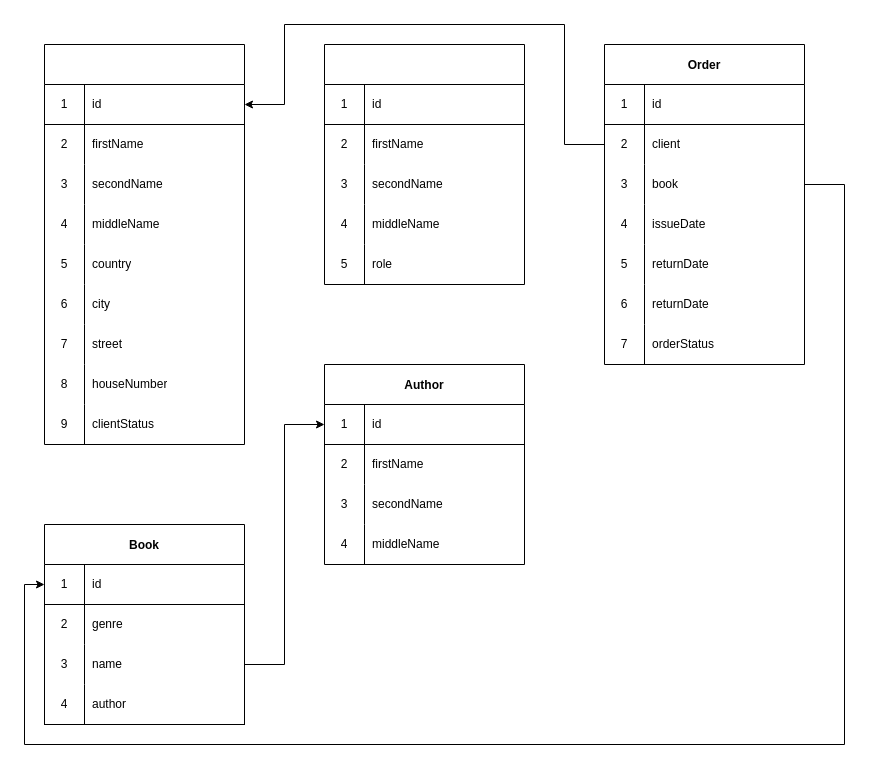
Some shapes in this 870 by 770 pixel diagram are drawn without their labels. Here are the shapes that lost their labels. From the top down, the box of each, then its label:
(324, 44, 524, 284): User
(44, 44, 244, 444): ZZ
